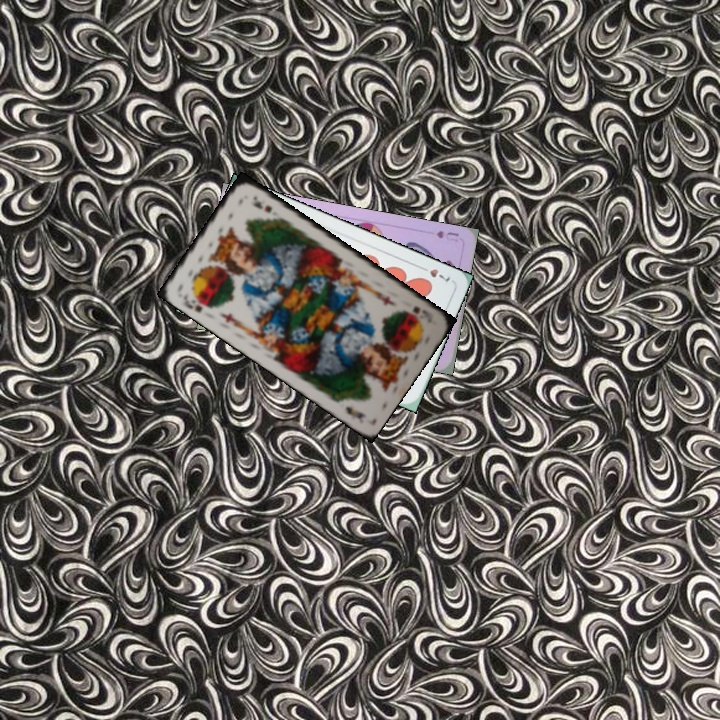H7: (415, 262, 453, 284)
SK: (179, 289, 215, 315), (409, 302, 435, 326)
SU: (432, 226, 461, 244)
